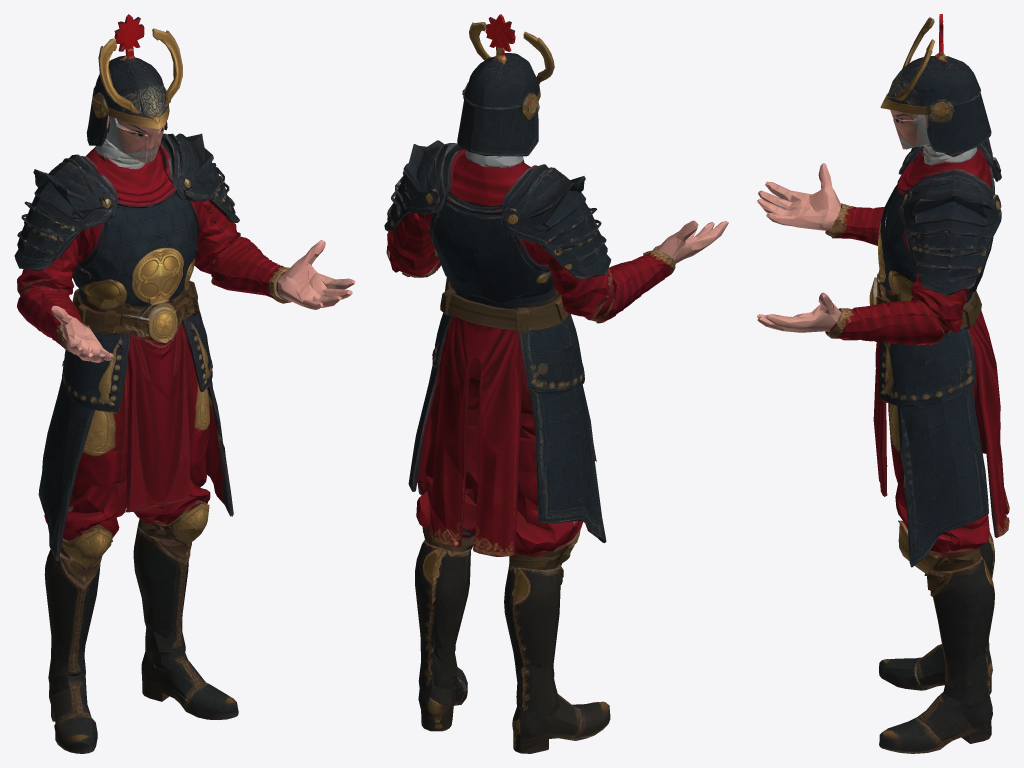
The model's file is char_H31_tran-hung-dao.glb.
The picture shows the model from 3 angles, left to right: view 1: azimuth 30°, elevation 25°; view 2: azimuth 150°, elevation 25°; view 3: azimuth 270°, elevation 25°; orthographic projection.
Bounding box in the file's own units: 0.7857 × 1.9 × 0.6215.
1 material, 1 textured.
